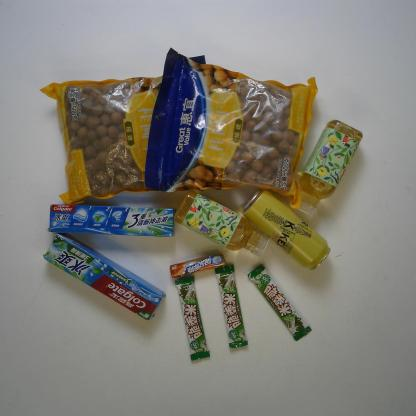Alcohol: (242, 188, 331, 270)
Candy: (170, 252, 226, 278)
Chocolate: (247, 264, 312, 342), (175, 275, 210, 361), (214, 263, 248, 349)
Dried Food: (144, 47, 318, 210), (39, 55, 222, 205)
Drink: (174, 189, 270, 258), (296, 120, 363, 218)
Personal Hygiene: (42, 232, 166, 321), (47, 204, 176, 237)
